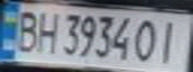3: (93, 12, 115, 60), (60, 10, 81, 56)
4: (112, 14, 136, 62)
9: (78, 11, 96, 58)
B: (9, 7, 42, 53)
H: (33, 7, 60, 55)
I: (154, 17, 187, 66)
O: (130, 16, 163, 64)
